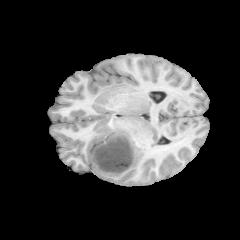glioma: (87, 115, 146, 179)
